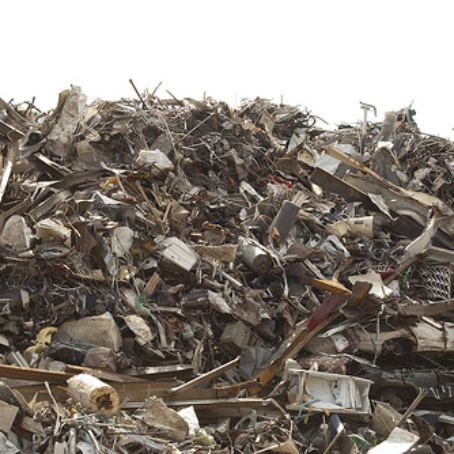trash: (3, 85, 454, 454)
